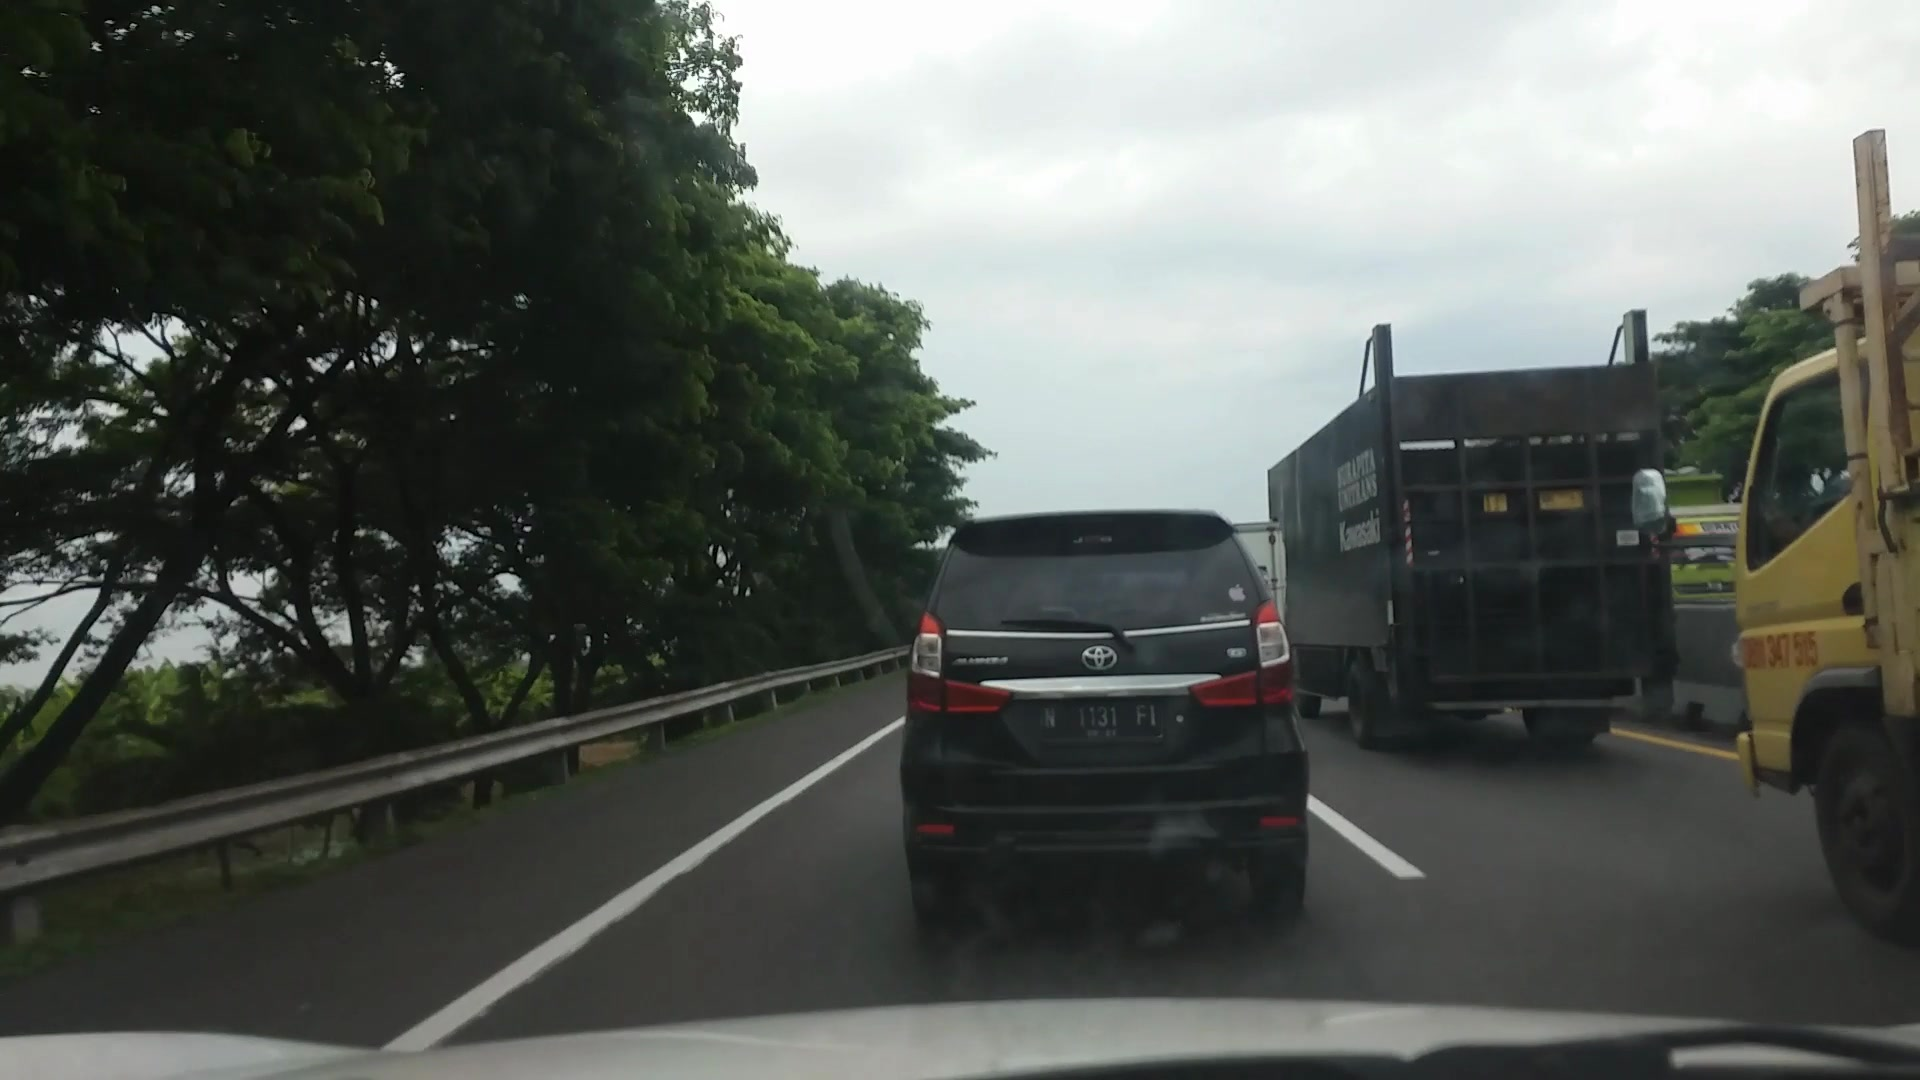plate_positive: (1039, 702, 1162, 741)
